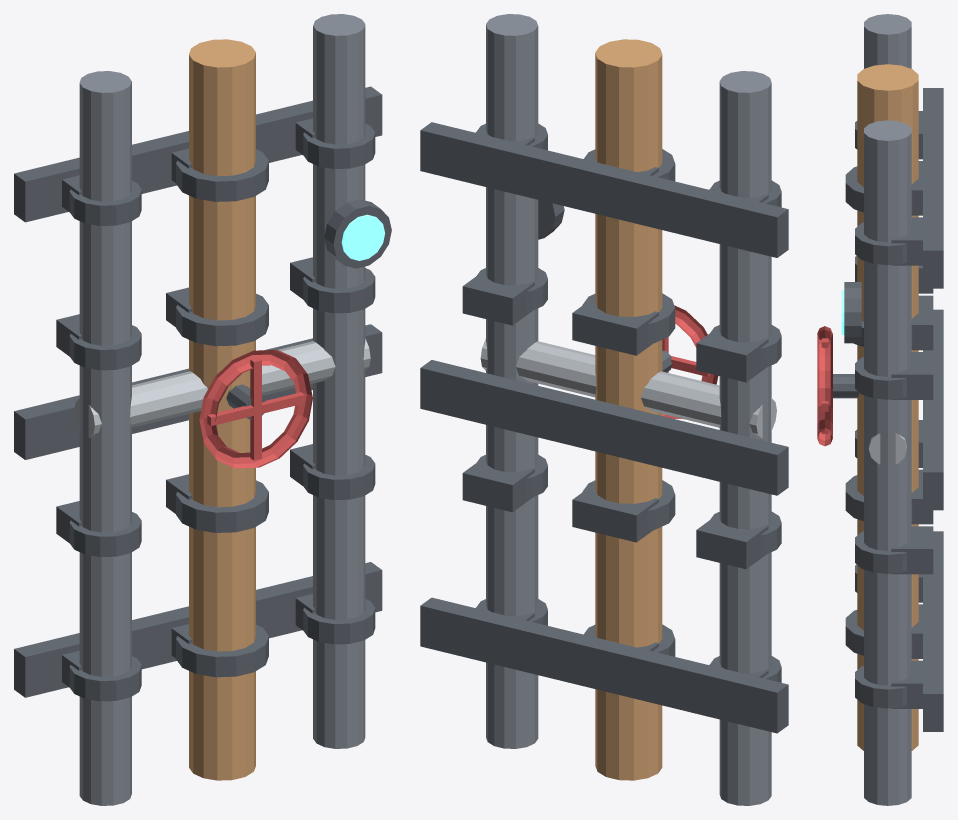
Rendered from wall_pipe_manifold.glb.
The picture shows the model from 3 angles, left to right: view 1: azimuth 30°, elevation 25°; view 2: azimuth 150°, elevation 25°; view 3: azimuth 270°, elevation 25°; orthographic projection. The views are drawn at different scales.
Parts seen in each view (by area): view 1: WallPipeManifold; view 2: WallPipeManifold; view 3: WallPipeManifold.
Boxes of the visible parts, x1=… form: WallPipeManifold: x1=14, y1=14, x2=391, y2=805; WallPipeManifold: x1=420, y1=14, x2=788, y2=805; WallPipeManifold: x1=817, y1=14, x2=943, y2=805.
Size of the model in its own units: 2.2 by 4.2 by 0.725.
